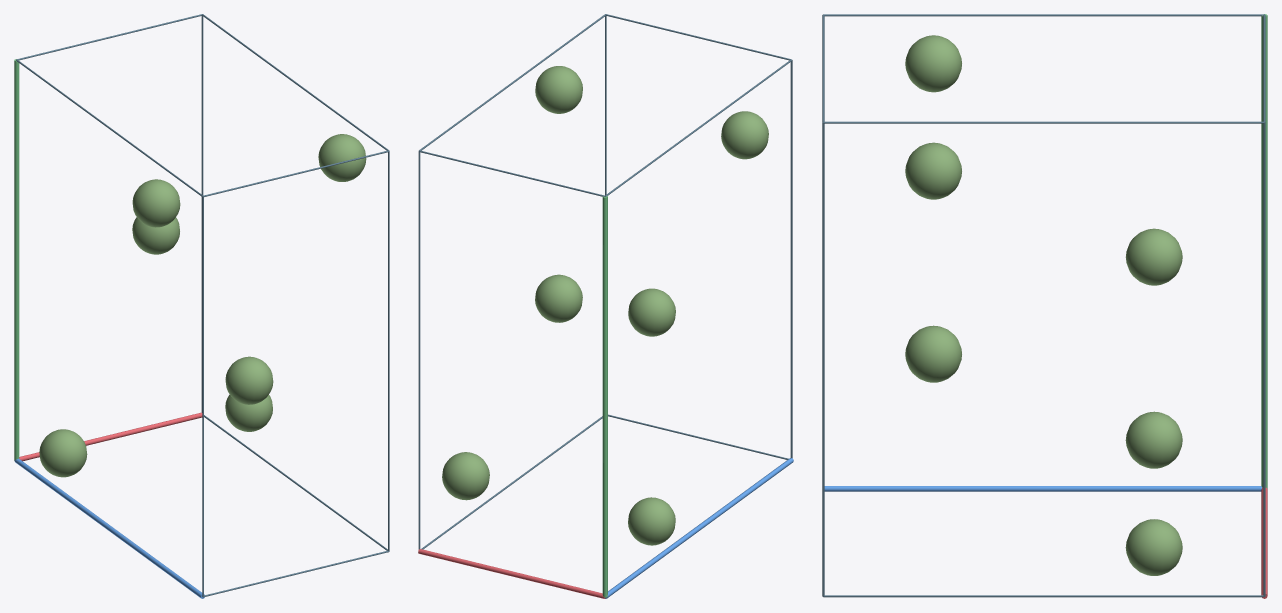
Rendered from nguyen-to-u.glb.
The picture shows the model from 3 angles, left to right: view 1: azimuth 30°, elevation 25°; view 2: azimuth 150°, elevation 25°; view 3: azimuth 270°, elevation 25°; orthographic projection. The views are drawn at different scales.
Visible parts, largest first — view 1: U · U · 1 (×6), Ô mạng và các trục a, b, c; view 2: U · U · 1 (×6), Ô mạng và các trục a, b, c; view 3: U · U · 1 (×6), Ô mạng và các trục a, b, c.
Boxes of the visible parts, x1,y1,x2,y2 form: U · U · 1 (×6): (39, 134, 366, 477); Ô mạng và các trục a, b, c: (14, 14, 389, 598); U · U · 1 (×6): (442, 66, 768, 545); Ô mạng và các trục a, b, c: (418, 14, 793, 598); U · U · 1 (×6): (905, 35, 1182, 575); Ô mạng và các trục a, b, c: (822, 14, 1267, 598).
Size of the model in its own units: 3.49 by 5.92 by 5.
